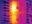Hotspot: (10, 0, 19, 23)
